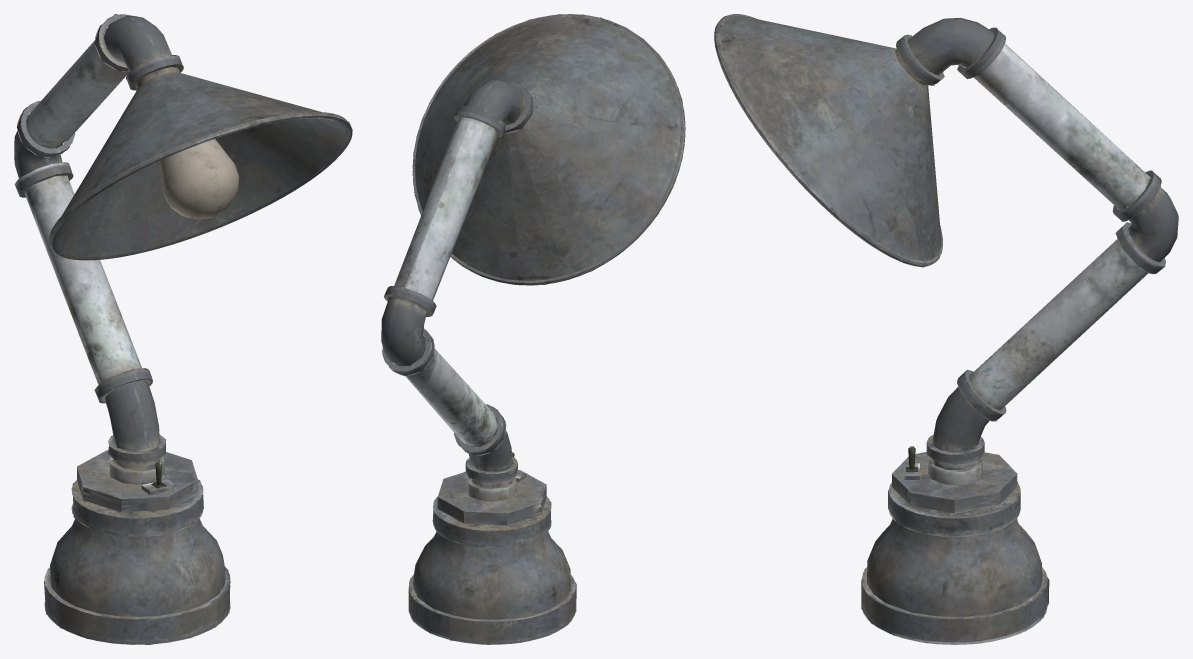
Rendered from fu_lamp_pipe.fbx.
3 views of the same model, side by side, from view 1: azimuth 30°, elevation 25°; view 2: azimuth 150°, elevation 25°; view 3: azimuth 270°, elevation 25° (orthographic). The views are drawn at different scales.
Parts seen in each view (by area): view 1: fu_lamp_pipe_LOD0; view 2: fu_lamp_pipe_LOD0; view 3: fu_lamp_pipe_LOD0.
Part boxes in pixels (box(x1,y1,x2,y2)): fu_lamp_pipe_LOD0: box(14, 14, 352, 644); fu_lamp_pipe_LOD0: box(381, 14, 685, 644); fu_lamp_pipe_LOD0: box(714, 14, 1178, 644).
Size of what is drawn, in the model's own units: 0.1835 by 0.3639 by 0.262.
Materials: 2 (2 with a texture image).
